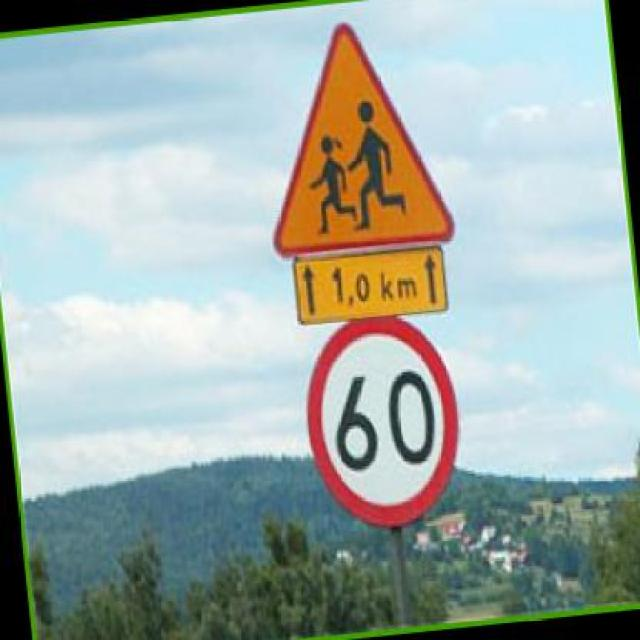Limite-60: (304, 318, 465, 530)
